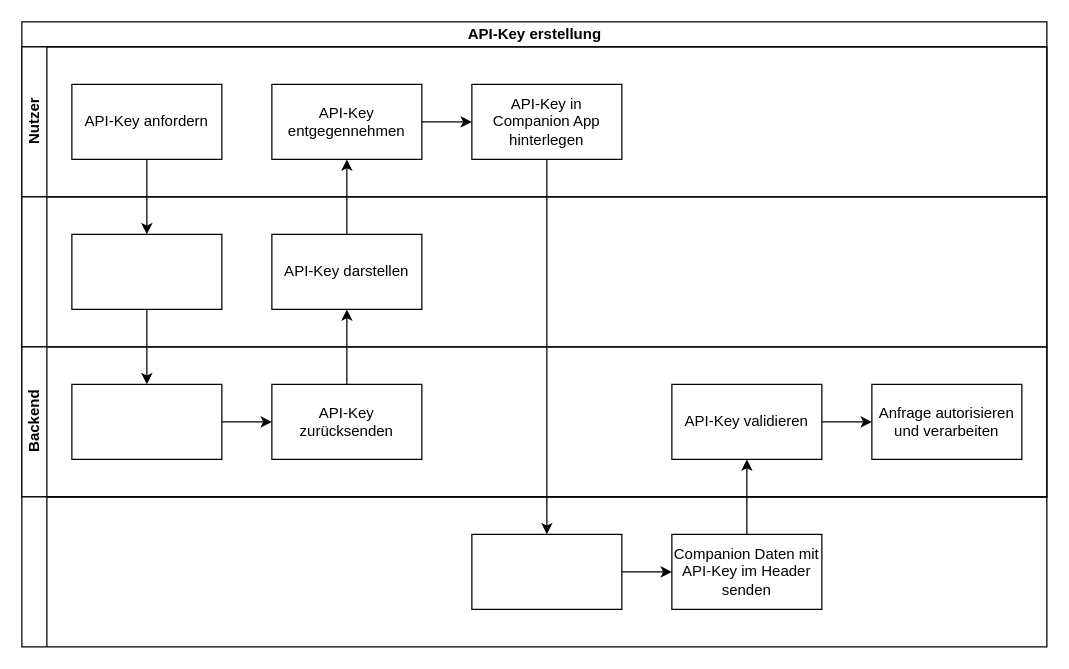
Image size: 1069x669. Some labels were removed from this diagram. The shapes that lost their labels are listed below. From the top down, each one's box as (x1, y1, x2, y2) in pixels, then its label:
(71, 233, 222, 309): Anfrage zur API-Key Erstellung
(21, 196, 1047, 347): Web App
(71, 383, 222, 459): API-Key generieren
(21, 496, 1047, 647): Companion App
(471, 533, 622, 609): API-Key lokal speichern
